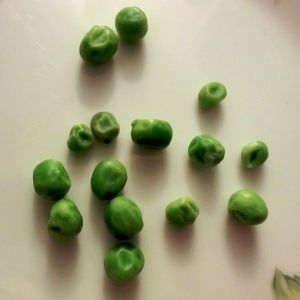boiled peas: (92, 163, 142, 278), (32, 158, 81, 235), (222, 183, 273, 236), (232, 136, 273, 175), (75, 117, 120, 148), (190, 132, 220, 170), (87, 21, 109, 61), (171, 193, 199, 224)
